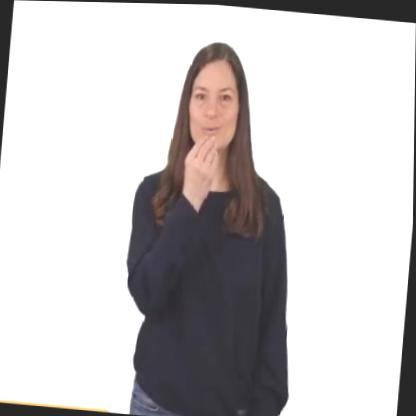Food: (112, 33, 318, 416)
